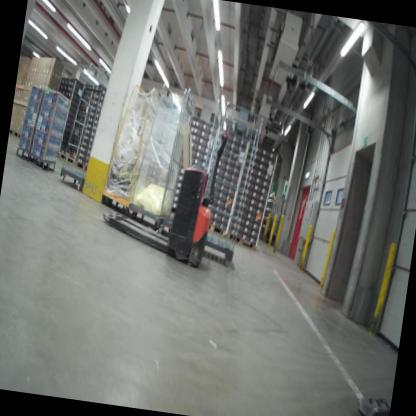pallet: (225, 228, 257, 253), (50, 143, 76, 165), (206, 220, 230, 238), (73, 155, 91, 171)
pallet_truck: (93, 98, 239, 276), (353, 383, 393, 416)
